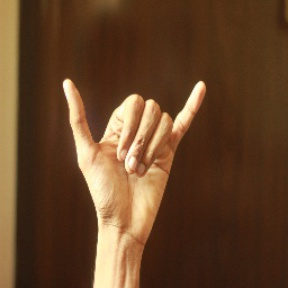J: (62, 73, 210, 225)
